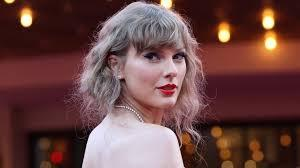person: (76, 0, 232, 120)
